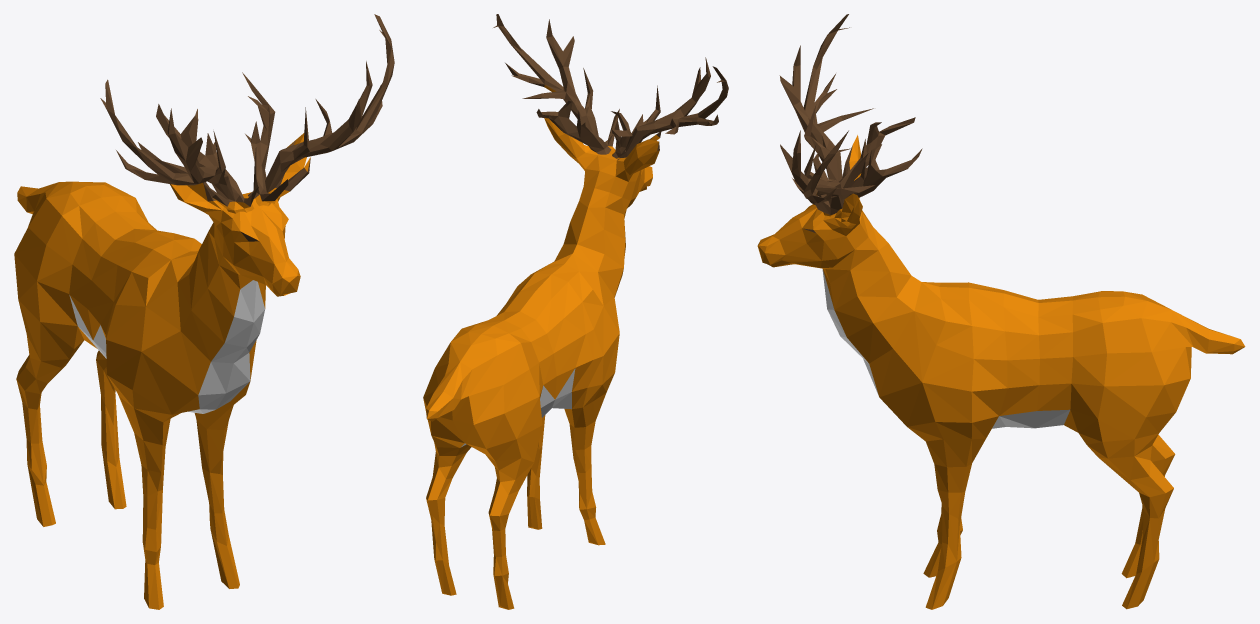
File: deer.glb
The picture shows the model from 3 angles, left to right: view 1: azimuth 30°, elevation 25°; view 2: azimuth 150°, elevation 25°; view 3: azimuth 270°, elevation 25°; orthographic projection. The views are drawn at different scales.
Parts seen in each view (by area): view 1: deer; view 2: deer; view 3: deer.
Part boxes in pixels (x1=…): deer: x1=14, y1=14, x2=394, y2=609; deer: x1=423, y1=14, x2=728, y2=609; deer: x1=757, y1=14, x2=1245, y2=609.
Size of the model in its own units: 0.8061 by 1.58 by 1.34.
